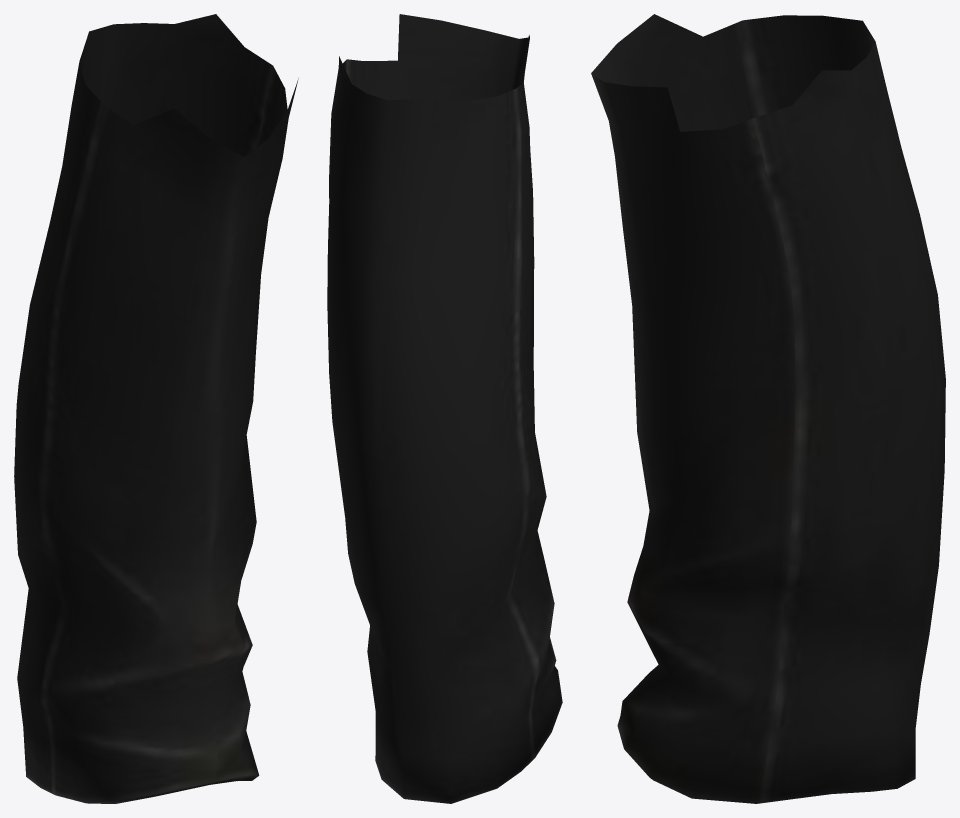
The model's file is panto_der.obj.
3 renders of one model, left to right at view 1: azimuth 30°, elevation 25°; view 2: azimuth 150°, elevation 25°; view 3: azimuth 270°, elevation 25°, orthographic. The views are drawn at different scales.
Visible parts, largest first — view 1: node_id797.001; view 2: node_id797.001; view 3: node_id797.001.
Part boxes in pixels (x1,y1,x2,y2): node_id797.001: (14, 14, 298, 803); node_id797.001: (327, 14, 562, 803); node_id797.001: (591, 14, 945, 803).
Size of the model in its own units: 0.1402 by 0.4567 by 0.1902.
1 material, 1 textured.
